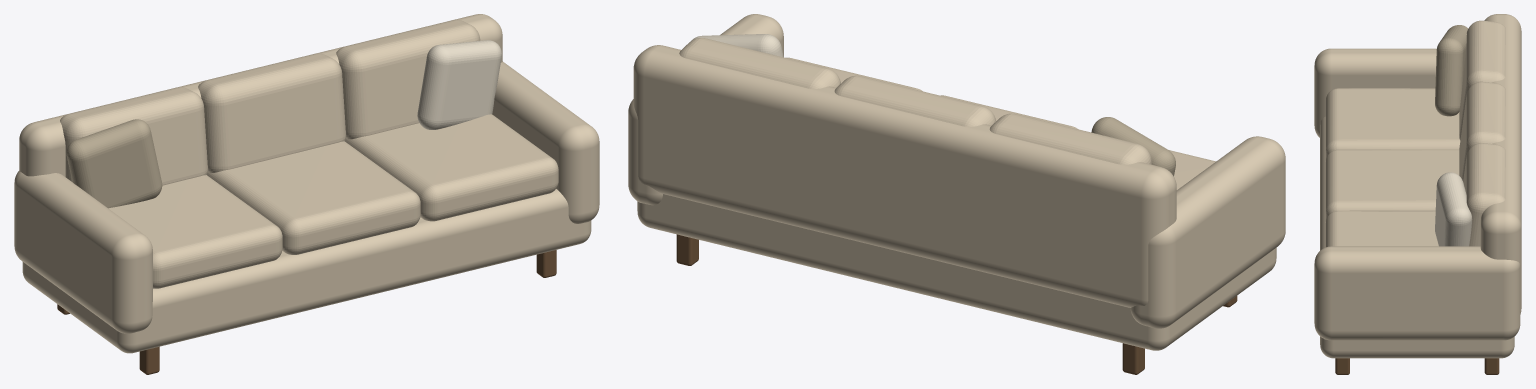
Rendered from sofa.gltf.
3 views of the same model, side by side, from view 1: azimuth 30°, elevation 25°; view 2: azimuth 150°, elevation 25°; view 3: azimuth 270°, elevation 25° (orthographic). The views are drawn at different scales.
Visible parts, largest first — view 1: Qiyu_Modern_Fabric_Sofa; view 2: Qiyu_Modern_Fabric_Sofa; view 3: Qiyu_Modern_Fabric_Sofa.
Boxes of the visible parts, x1=… form: Qiyu_Modern_Fabric_Sofa: x1=14, y1=14, x2=599, y2=374; Qiyu_Modern_Fabric_Sofa: x1=628, y1=14, x2=1285, y2=374; Qiyu_Modern_Fabric_Sofa: x1=1314, y1=14, x2=1521, y2=374.
Size of the model in its own units: 2.25 by 0.871 by 0.915.
